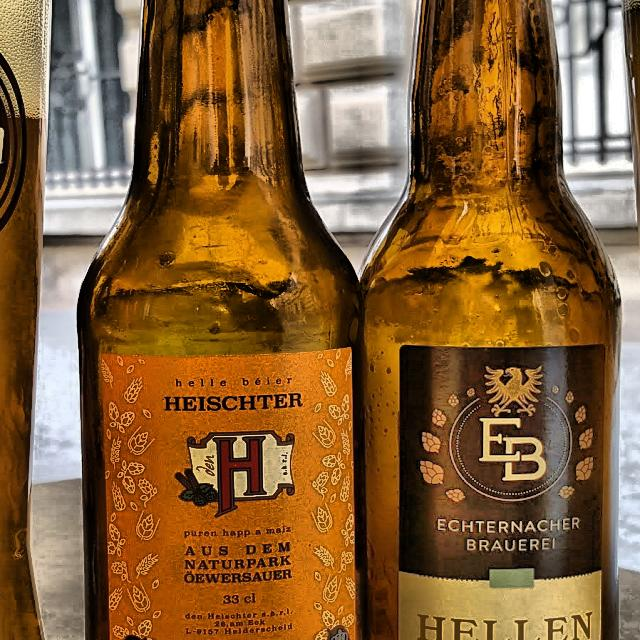glass: (78, 0, 367, 640), (361, 0, 634, 640)
